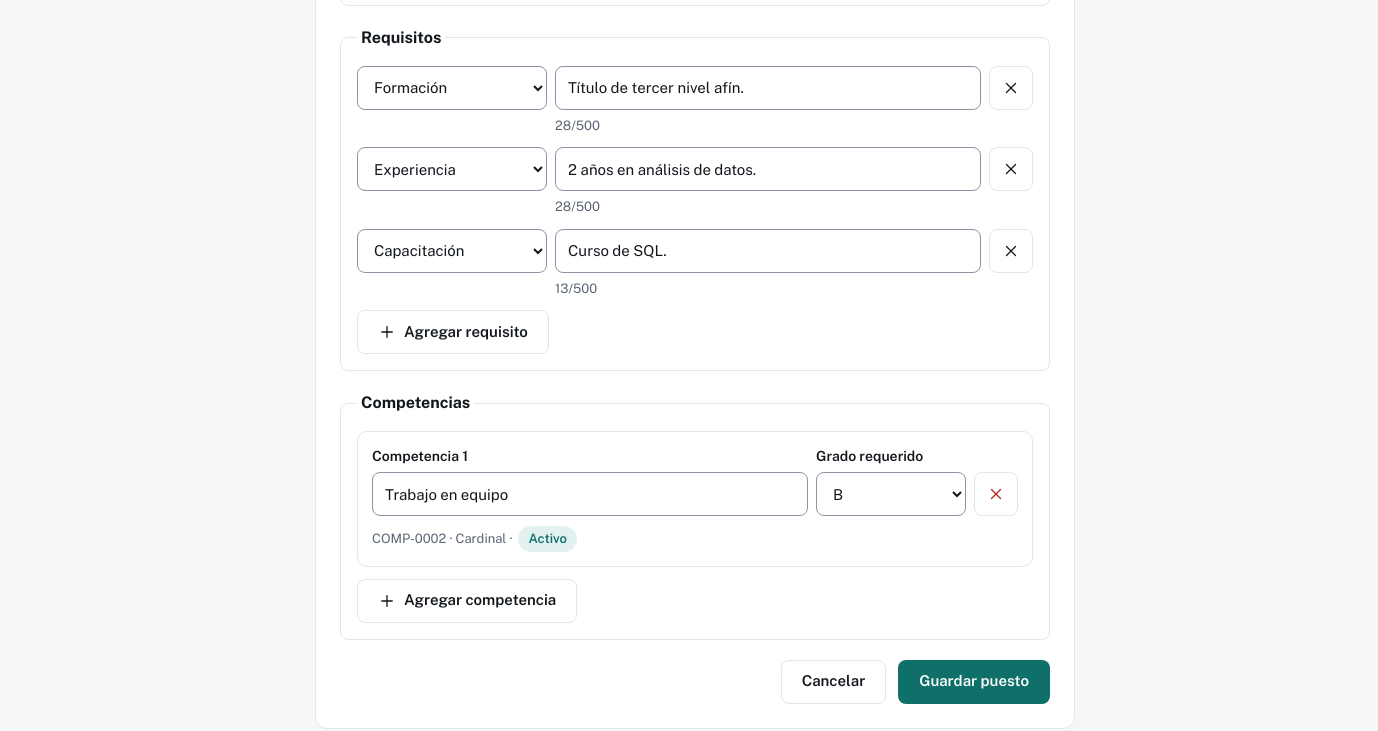
it: PuestoFormPage (editar) › si el puesto desaparece al guardar lo indica sin perder el formulario
The image size is (1378, 731).
(page scrolled)
Click the button "Guardar puesto" at (974, 682), box x1=898 y1=660 x2=1050 y2=704
(page scrolled)
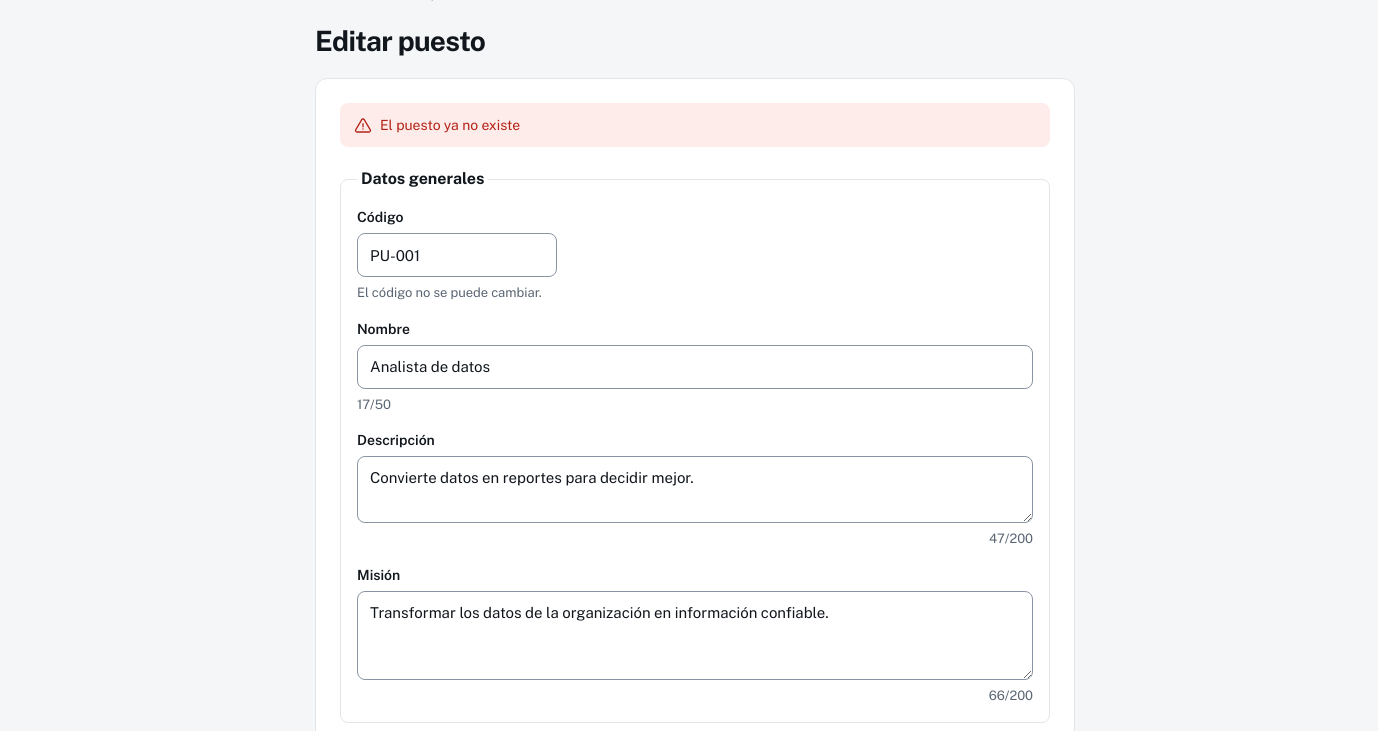
Expected: the field labelled "Nombre" holds "Analista de datos", x1=357 y1=344 x2=1033 y2=388
Result: the text "El puesto ya no existe" is shown at x1=380 y1=115 x2=520 y2=135
